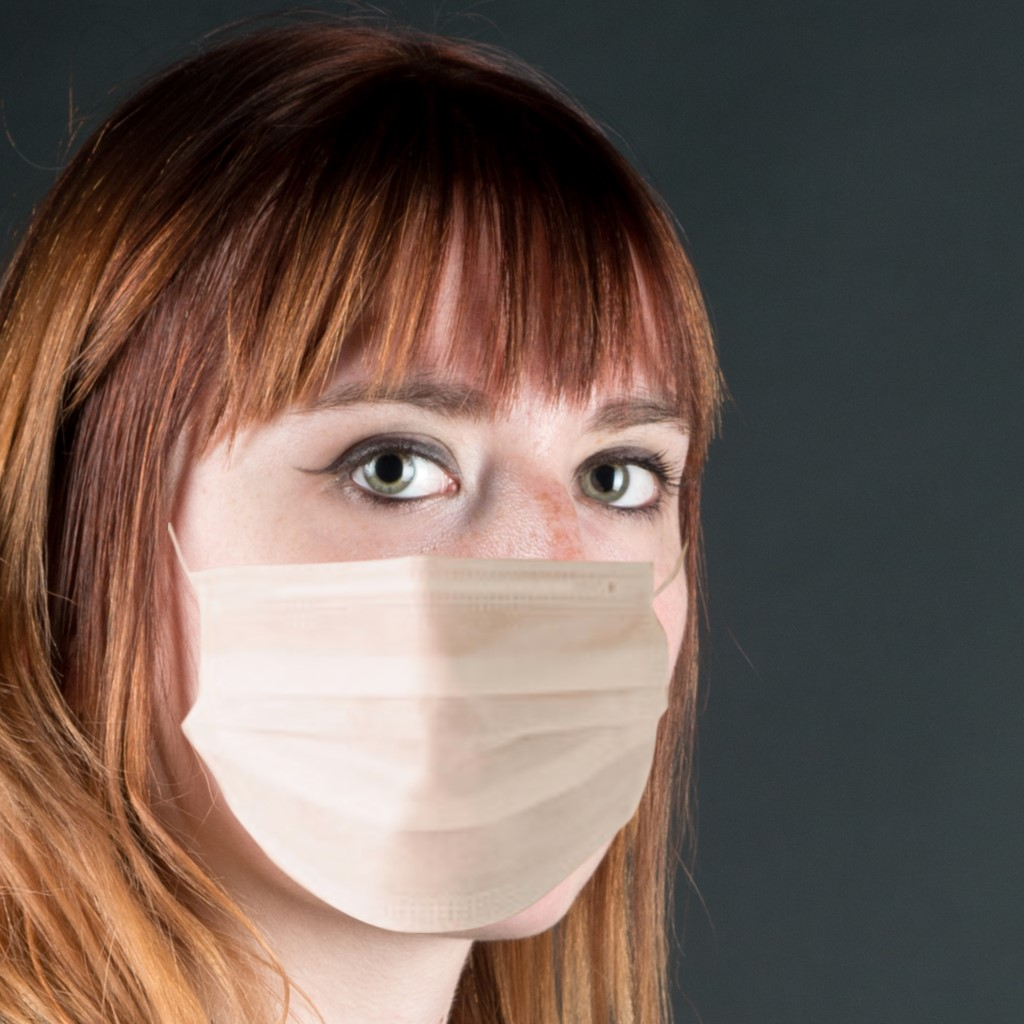con_mascara: (185, 195, 705, 952)
